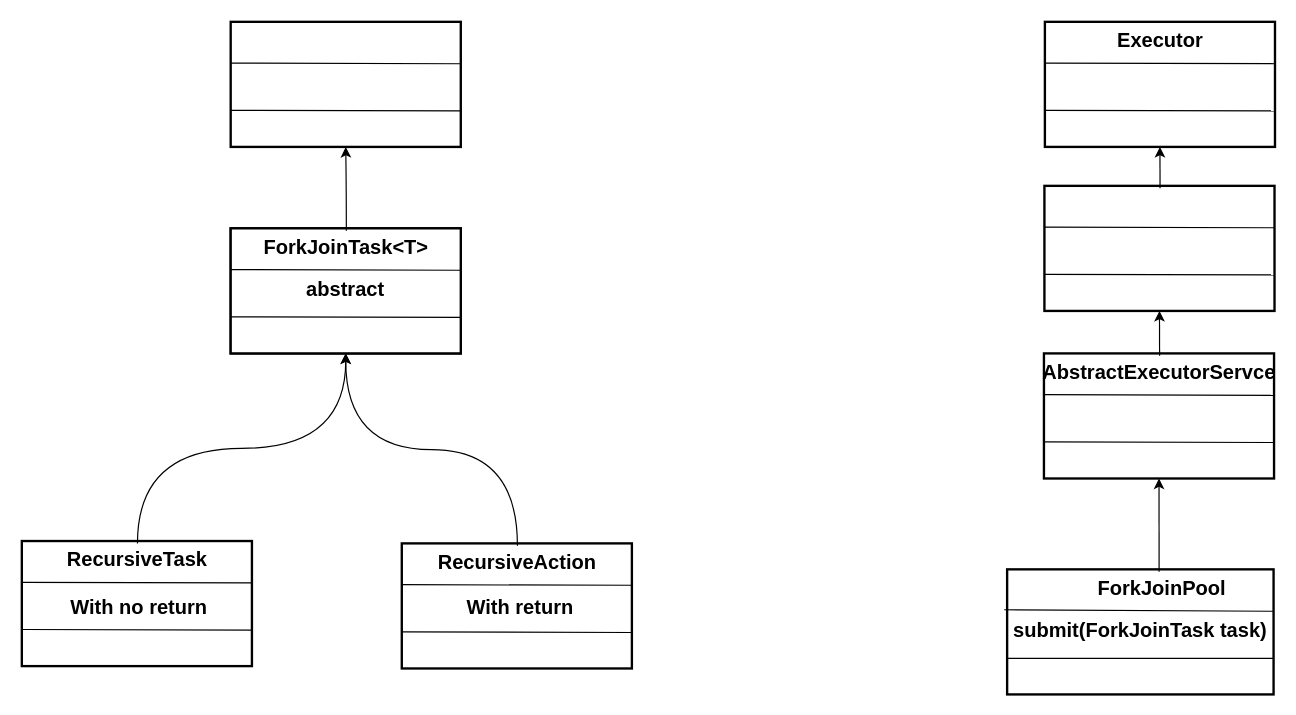
The diagram is 1296 pixels wide and 715 high, and some of its shapes have lost their labels. The centre of each missing label's shape, as x and y in pixels:
ExecutorService: point (1159, 248)
Future<T>: point (345, 84)
